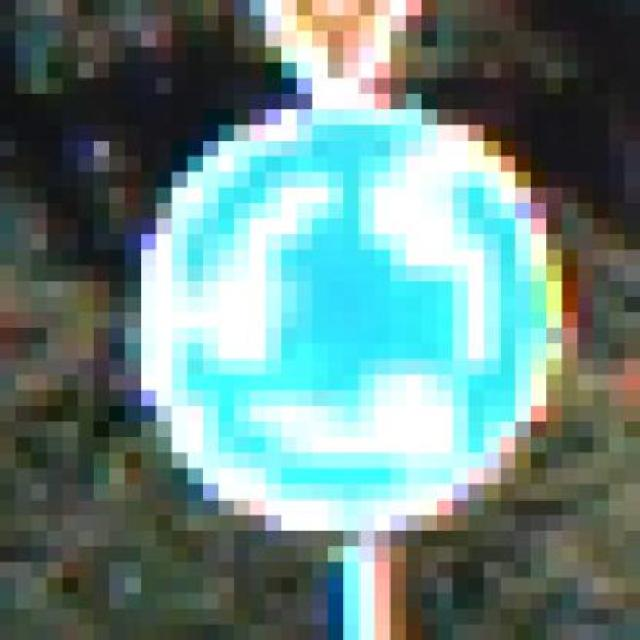Round-About: (94, 78, 609, 562)
